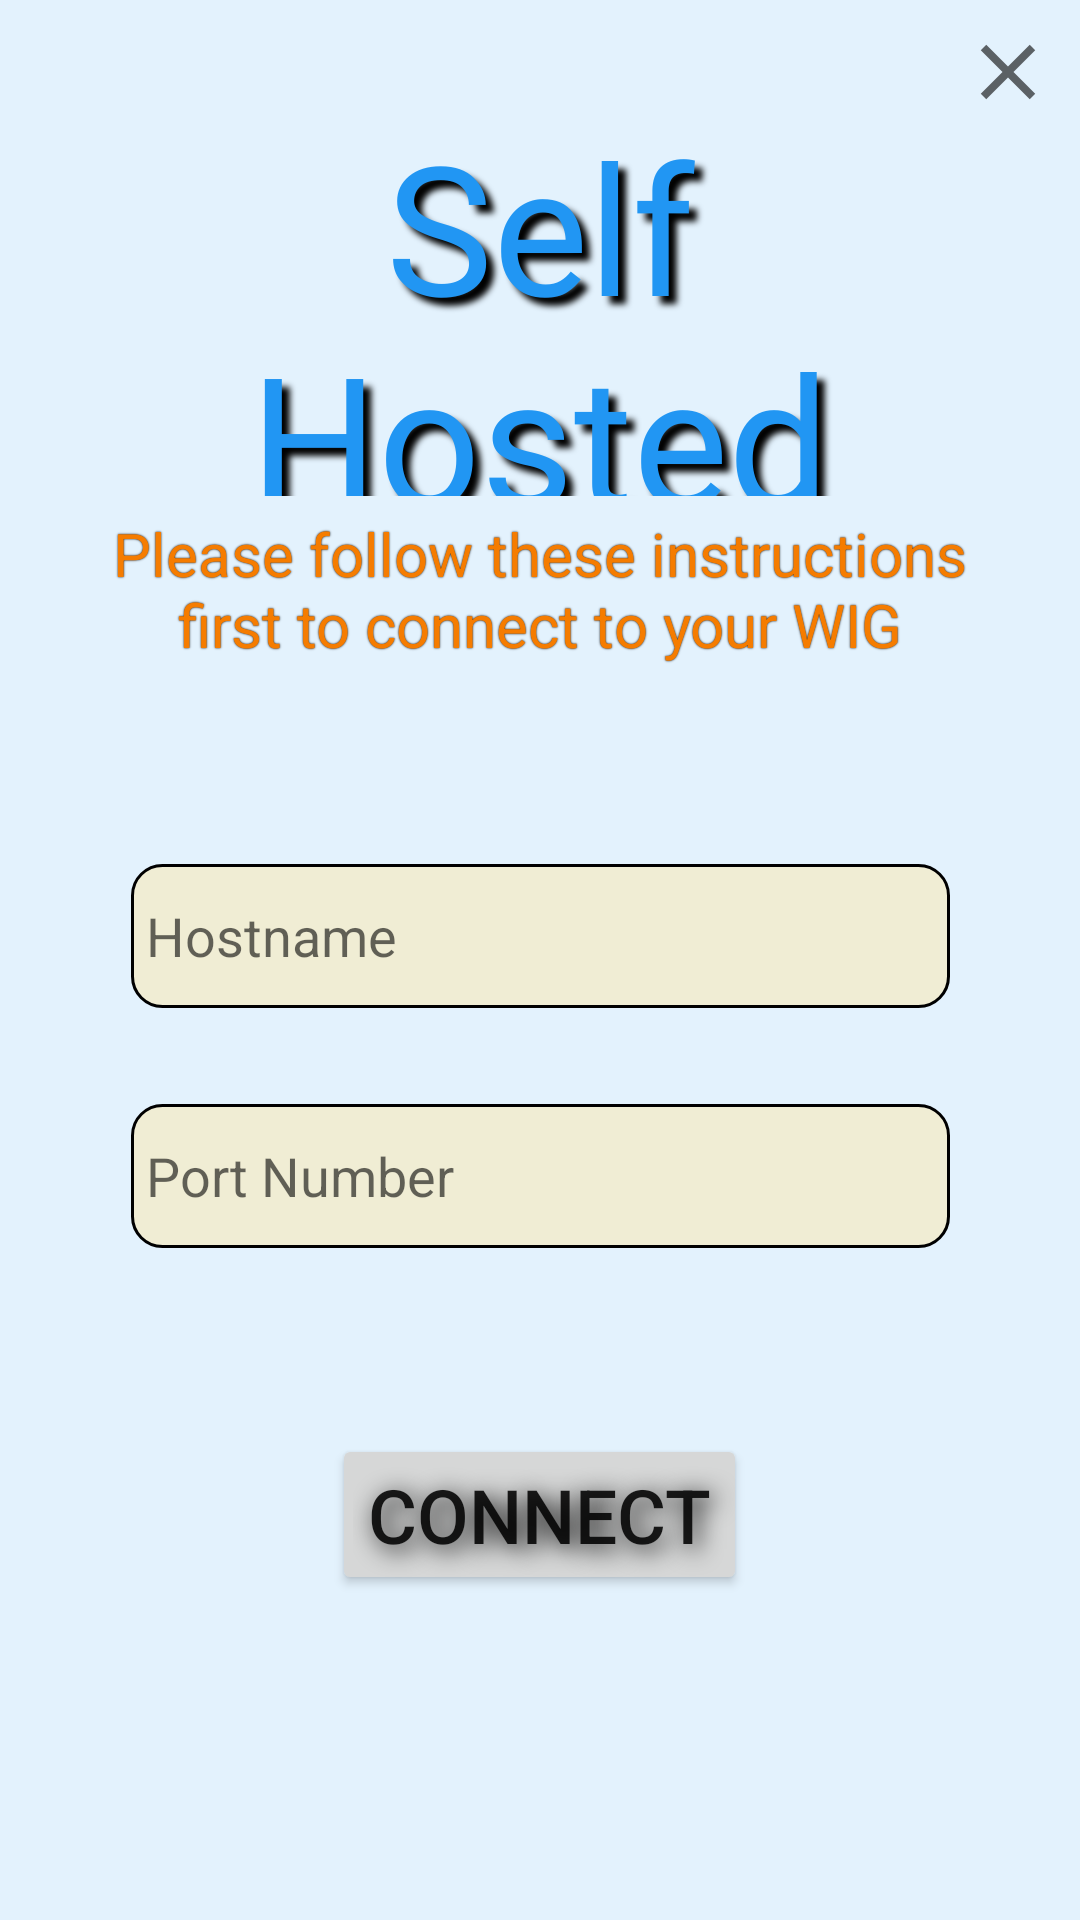

Locate icon controls on the screen. Image size 1080 x 1920, boxes as (x1, y1, x2, y2).
Exit: (981, 45, 1035, 99)
